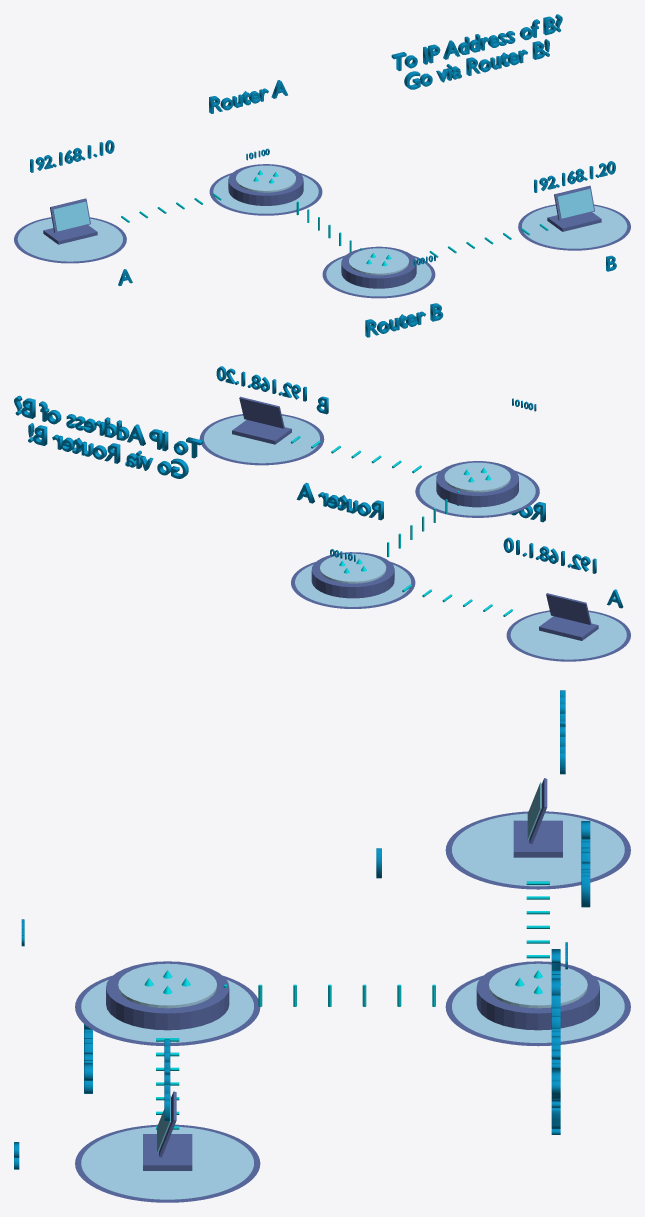
The model's file is router.glb.
3 views of the same model, one above another, from view 1: azimuth 30°, elevation 25°; view 2: azimuth 150°, elevation 25°; view 3: azimuth 270°, elevation 25° (orthographic). The views are drawn at different scales.
Parts seen in each view (by area): view 1: Text.008, Node-A-InnerCircle, Node-B-InnerCircle, Router-A-Body, Router-B-Body, Node-Router-B-InnerCircle, Node-Router-A-InnerCircle, Router-A-Top, Router-B-Top, Text.010, Text.009, Computer-A-Screen (+9 smaller); view 2: Text.008, Node-A-InnerCircle, Node-B-InnerCircle, Router-B-Body, Router-A-Body, Node-Router-B-InnerCircle, Node-Router-A-InnerCircle, Router-B-Top, Router-A-Top, Text.009, Text.005, Text.001 (+8 smaller); view 3: Node-B-InnerCircle, Node-A-InnerCircle, Router-B-Body, Node-Router-B-InnerCircle, Node-Router-A-InnerCircle, Router-A-Body, Router-B-Top, Router-A-Top, Text.008, Computer-A-Base, Node-B-Circle, Node-A-Circle (+4 smaller).
Boxes of the visible parts, x1,y1,x2,y2 form: Text.008: (391,14,562,89); Node-A-InnerCircle: (17,218,122,261); Node-B-InnerCircle: (522,205,627,248); Router-A-Body: (228,164,303,205); Router-B-Body: (341,246,416,288); Node-Router-B-InnerCircle: (326,258,431,296); Node-Router-A-InnerCircle: (213,175,318,213); Router-A-Top: (236,165,295,192); Router-B-Top: (349,248,408,275); Text.010: (365,303,443,337); Text.009: (209,80,287,113); Computer-A-Screen: (53,201,89,231); Text.008: (14,395,202,478); Node-A-InnerCircle: (510,612,626,659); Node-B-InnerCircle: (204,415,319,463); Router-B-Body: (436,461,518,507); Router-A-Body: (311,552,394,598); Node-Router-B-InnerCircle: (419,473,535,515); Node-Router-A-InnerCircle: (295,564,411,606); Router-B-Top: (444,462,510,492); Router-A-Top: (320,553,386,583); Text.009: (296,482,383,520); Text.005: (216,366,306,401); Text.001: (503,537,596,573); Node-B-InnerCircle: (81,1127,253,1199); Node-A-InnerCircle: (452,813,624,886); Router-B-Body: (106,961,229,1030); Node-Router-B-InnerCircle: (81,980,253,1042); Node-Router-A-InnerCircle: (452,980,624,1042); Router-A-Body: (476,961,599,1030); Router-B-Top: (118,963,216,1008); Router-A-Top: (489,963,587,1008); Text.008: (551,949,560,1134); Computer-A-Base: (513,820,562,857); Node-B-Circle: (75,1124,260,1202); Node-A-Circle: (445,811,630,889).
Bounding box in the file's own units: 16.73 × 3.98 × 9.99.
